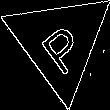P_NW: (31, 11, 88, 73)
